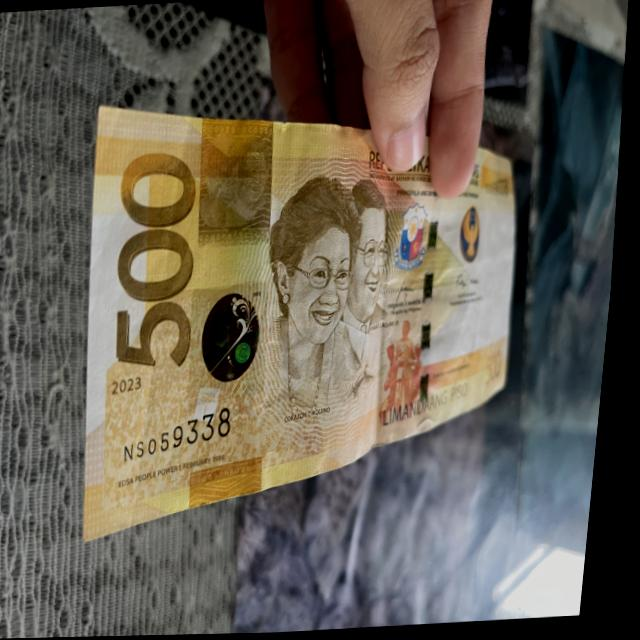concealed_value: (197, 113, 281, 246)
optically_variable_device: (189, 281, 282, 410)
serial_number: (122, 399, 252, 477)
